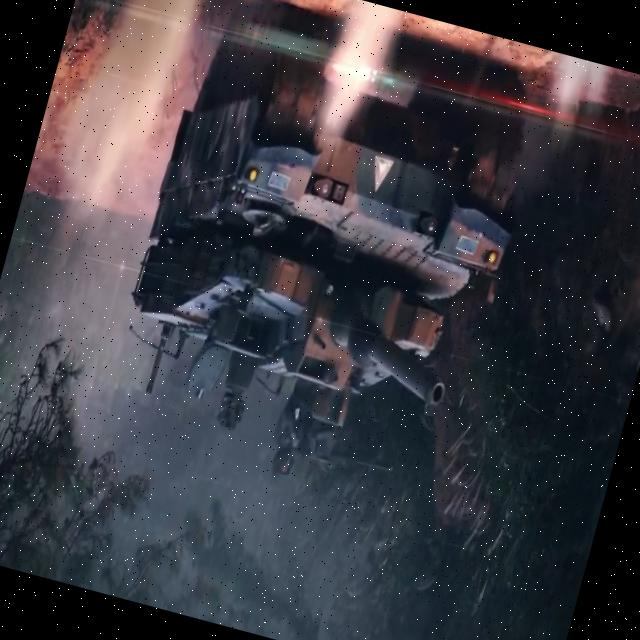korea tank: (92, 0, 560, 524)
